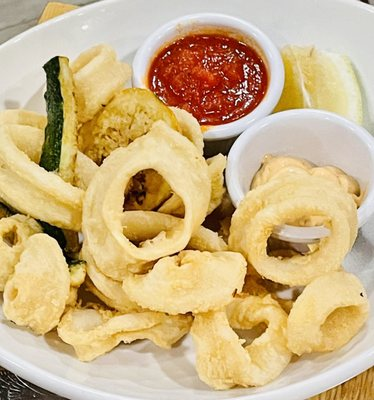sushi: (225, 109, 373, 346), (132, 12, 285, 147), (225, 109, 373, 225)
